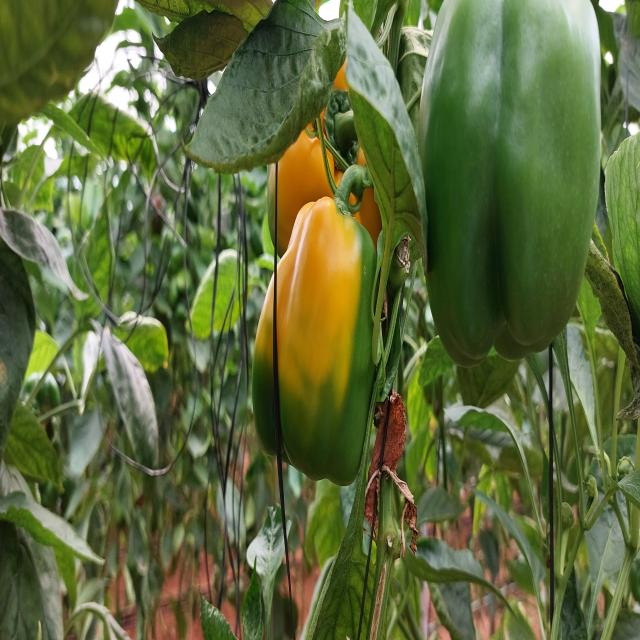Yellow-Ready-to-Harvest: (258, 148, 360, 399)
